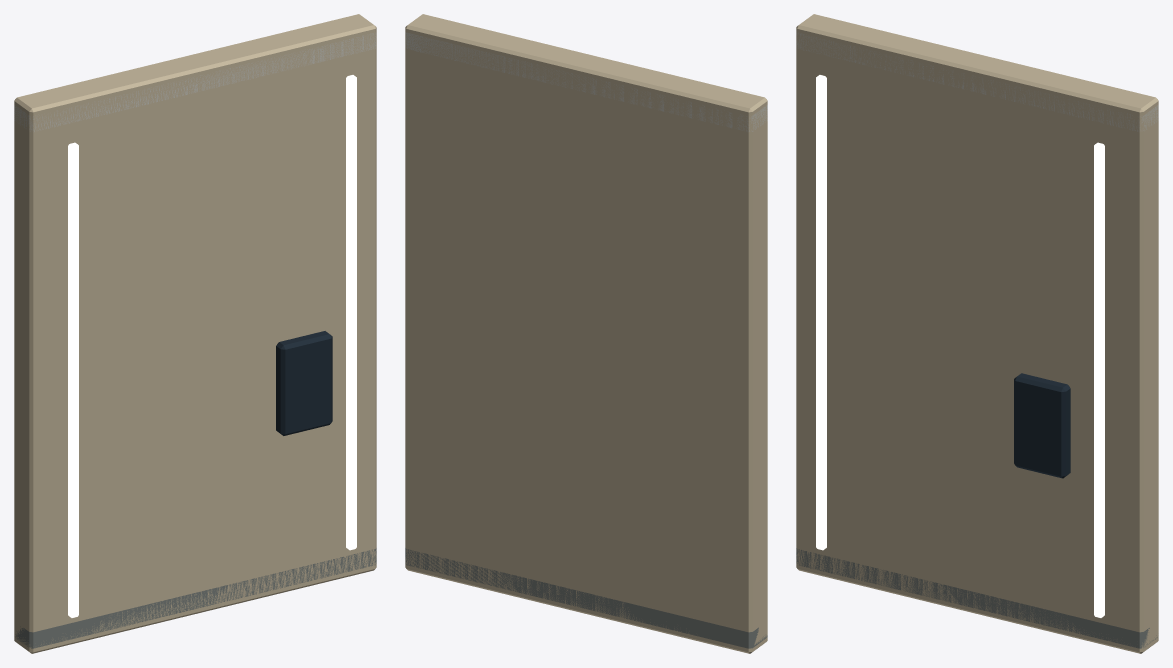
Rendered from architecture-scifi-wall.lod0.glb.
3 renders of one model, left to right at view 1: azimuth 30°, elevation 25°; view 2: azimuth 150°, elevation 25°; view 3: azimuth 330°, elevation 25°, orthographic.
Parts seen in each view (by area): view 1: architecture-scifi-wall__body; view 2: architecture-scifi-wall__body; view 3: architecture-scifi-wall__body.
Part boxes in pixels (x1,y1,x2,y2): architecture-scifi-wall__body: (14, 14, 376, 653); architecture-scifi-wall__body: (405, 14, 767, 653); architecture-scifi-wall__body: (796, 14, 1158, 653).
Bounding box in the file's own units: 2 × 3 × 0.35.
